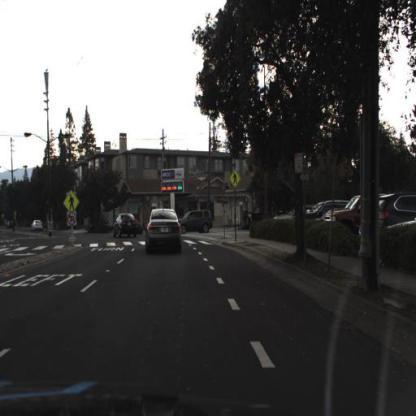car: (135, 205, 176, 257), (369, 193, 416, 235), (323, 195, 363, 234), (109, 208, 144, 247), (179, 208, 216, 233), (305, 197, 347, 218), (270, 202, 298, 231), (31, 215, 44, 234)
